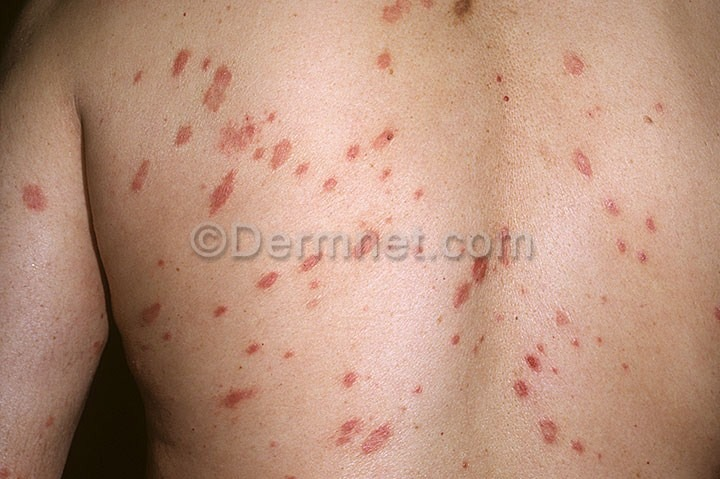Psoriasis: (209, 109, 328, 218), (509, 325, 599, 463), (324, 362, 411, 465), (342, 119, 433, 207), (436, 233, 531, 315), (157, 41, 245, 116), (369, 1, 492, 48), (596, 193, 667, 273), (243, 244, 339, 296), (119, 145, 180, 202), (552, 46, 616, 99), (210, 362, 273, 412), (9, 169, 61, 222), (558, 135, 607, 185), (121, 304, 187, 341)
